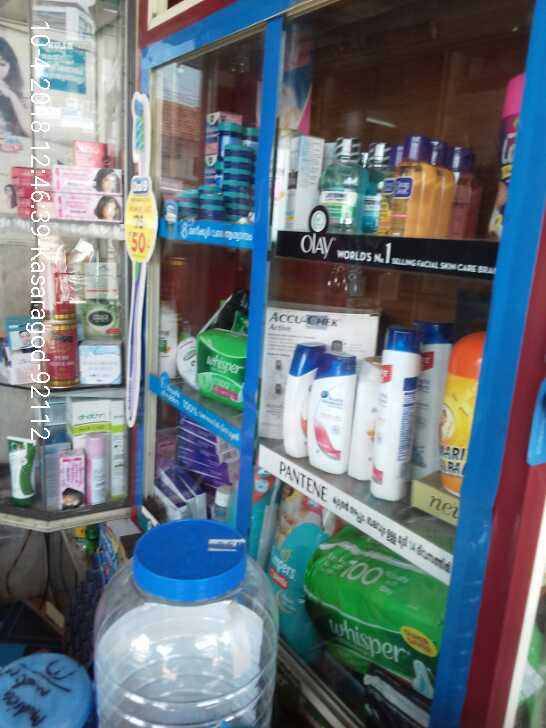vicks: (176, 105, 258, 221)
